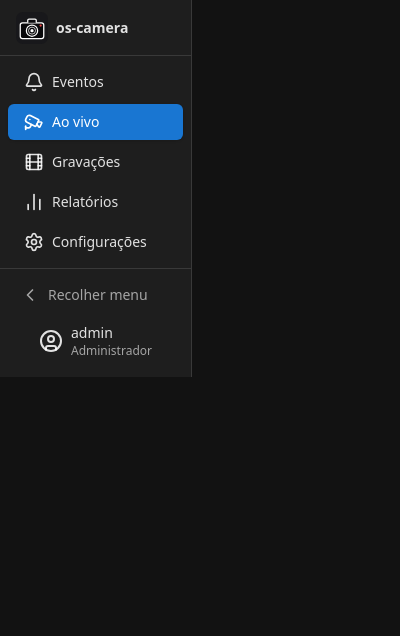
Test: Sidebar — reorganização da navegação › Estatísticas saiu da base e virou link /stats no flyout, entre color mode e Sobre
abre o flyout de configurações
Click the button with id "sidebar-settings" at (96, 242), box [8,224,183,260]
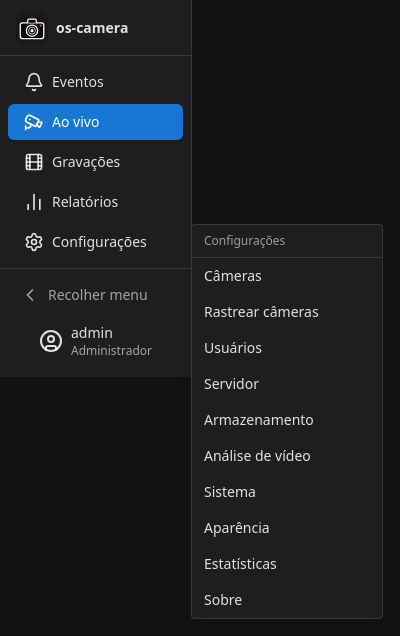
Expected: the link to "/stats" is shown, [204,554,277,573]
